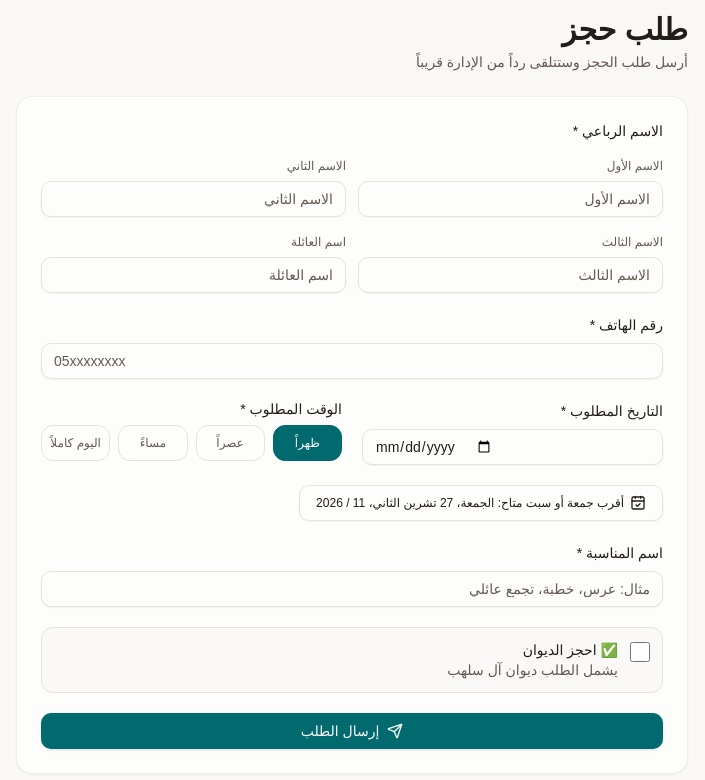
Test case: RequestPage › reports a failure and allows retrying
Type "خالد" into the field labelled "الاسم الأول". click: (510, 199)
box: [358,181,663,217]
Type "سلهب" into the field labelled "اسم العائلة". click: (194, 275)
box: [41,257,346,293]
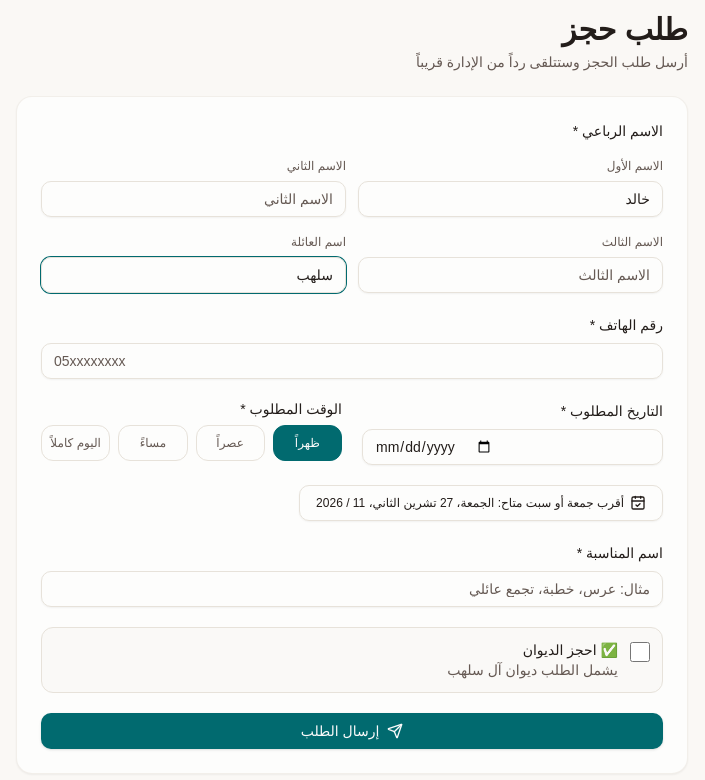
Type "0501234567" into the field labelled "رقم الهاتف *". click: (352, 361)
box: [41,343,663,379]
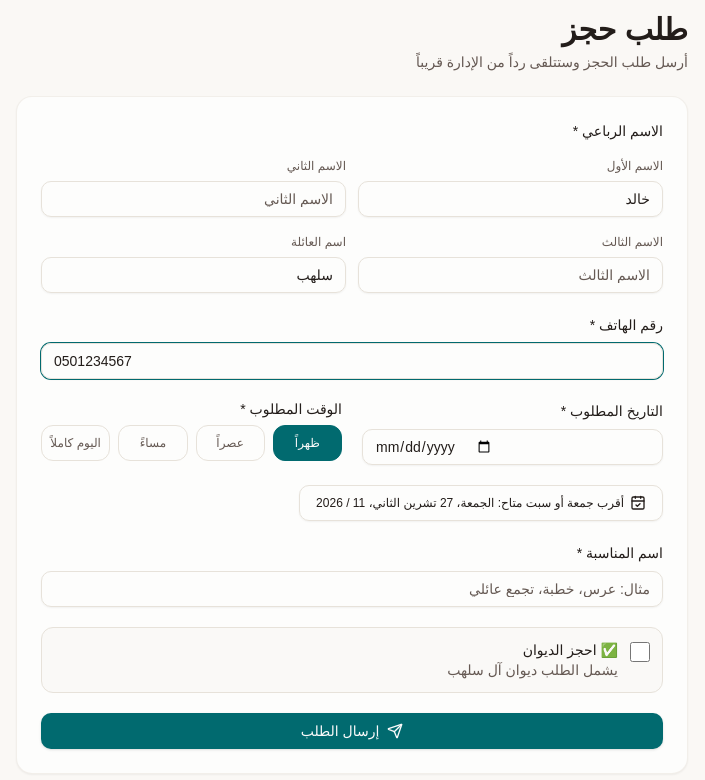
Type "2099-07-01" into the date field labelled "التاريخ المطلوب *". click: (512, 447)
box: [362,429,663,465]
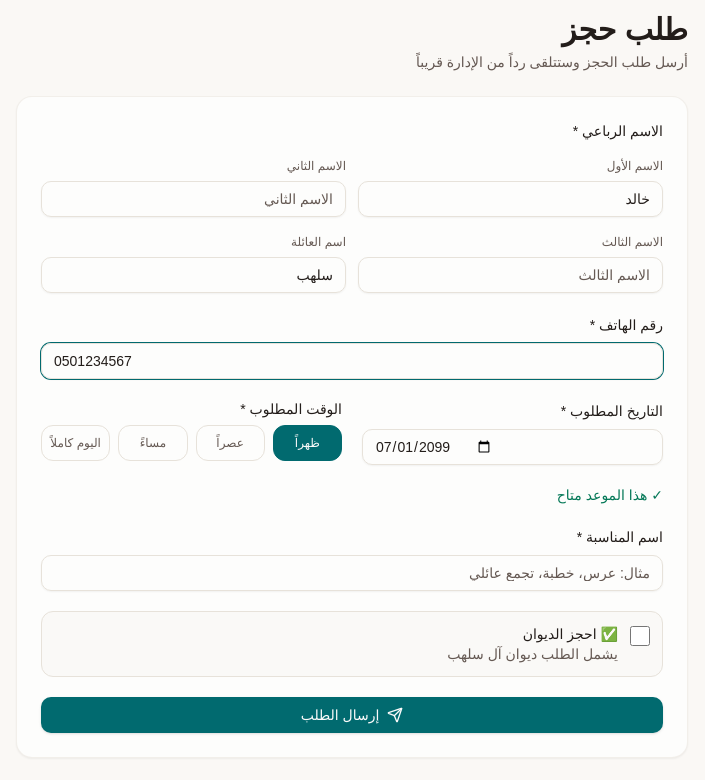
Type "عرس" into the field labelled "اسم المناسبة *". click: (352, 573)
box: [41,555,663,591]
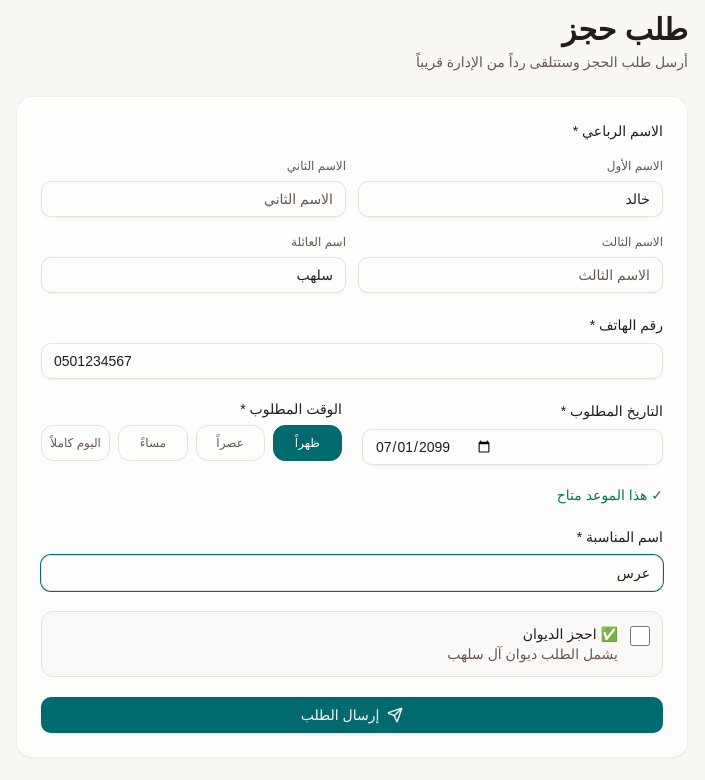
Click the button "إرسال الطلب". click: (352, 715)
box: [41,697,663,733]
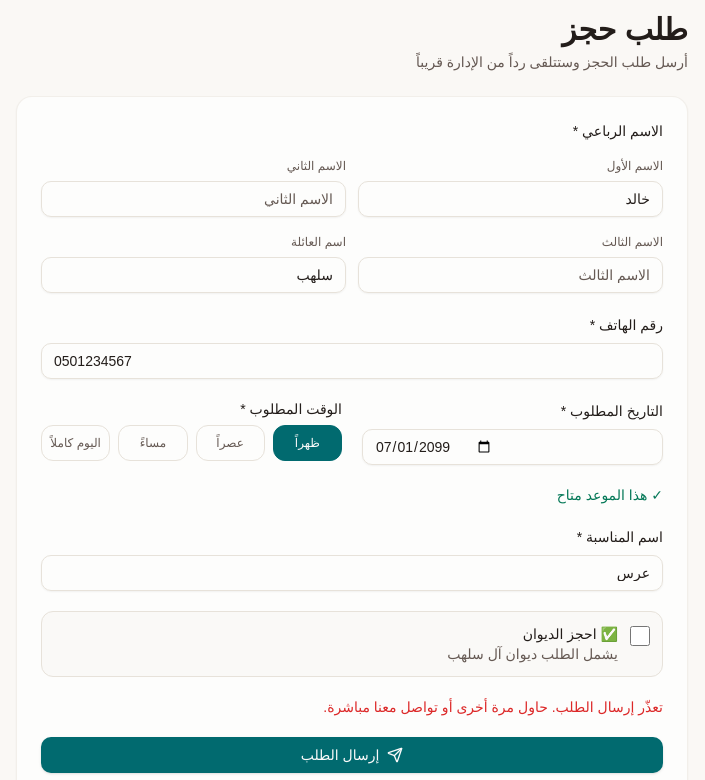
Expected: the text "تم إرسال طلبك بنجاح" is not shown
Expected: the text "تعذّر إرسال الطلب. حاول مرة أخرى أو تواصل معنا مباشرة." is shown, [323,699,663,715]
Click the button "إرسال الطلب". click: (352, 755)
box: [41,737,663,773]
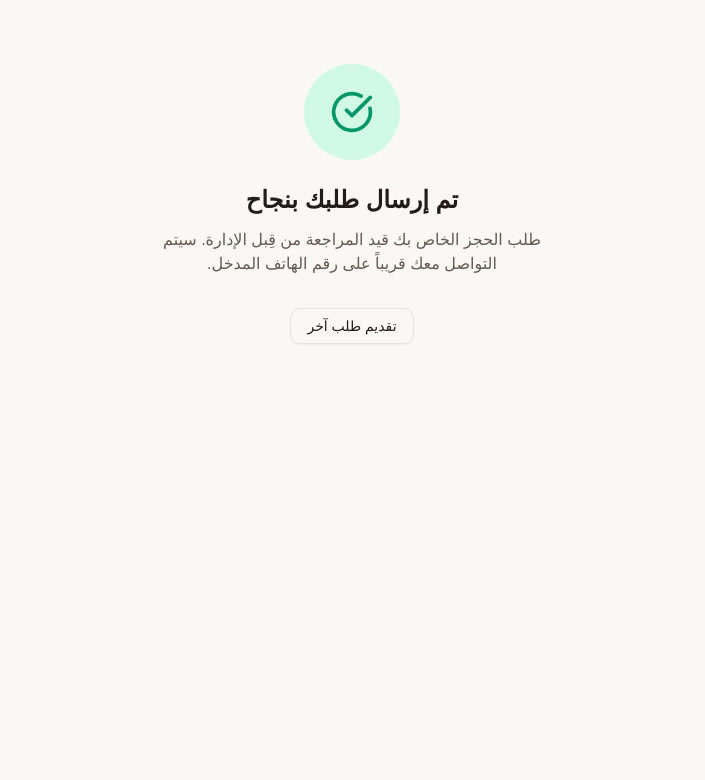
Expected: the heading "تم إرسال طلبك بنجاح" is shown, [246,184,458,216]
